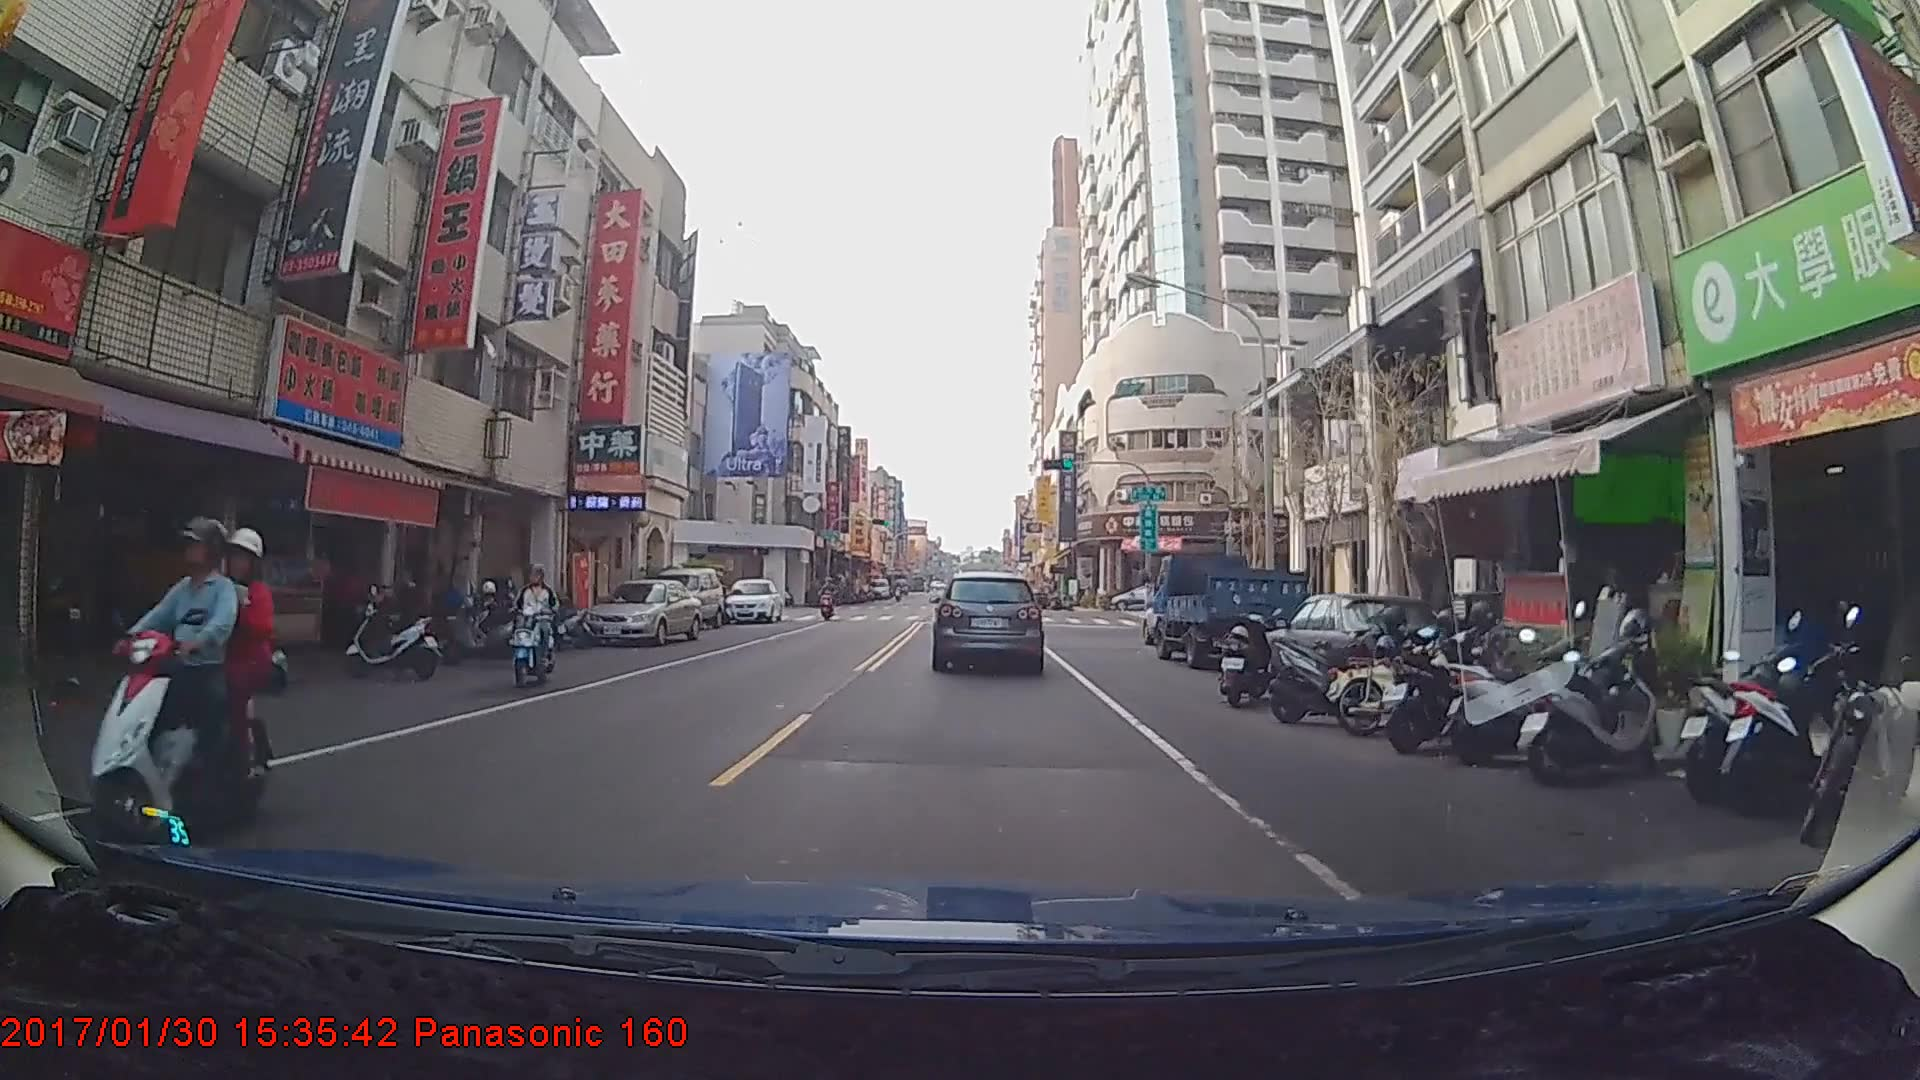rider: (85, 518, 289, 847), (508, 564, 567, 689), (818, 580, 839, 626)
vehicle: (1150, 551, 1309, 670), (935, 569, 1043, 672), (578, 576, 704, 647), (646, 565, 728, 632), (724, 576, 784, 624), (1107, 583, 1172, 610)
